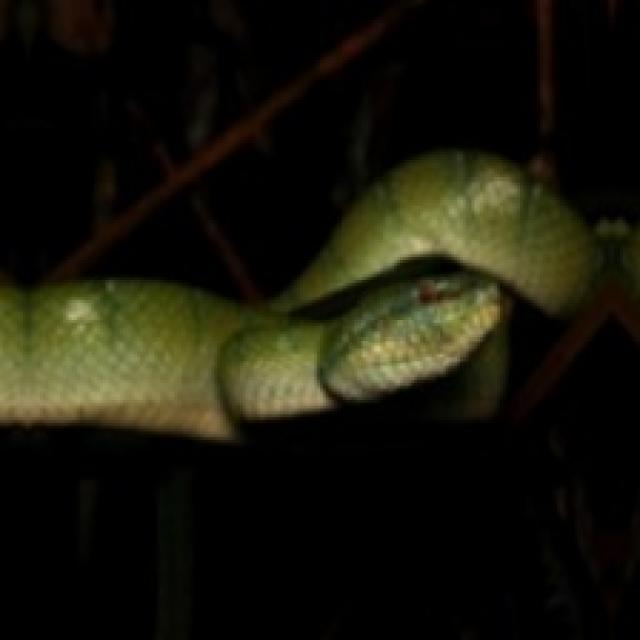north ph temple pitviper: (0, 151, 589, 437)
